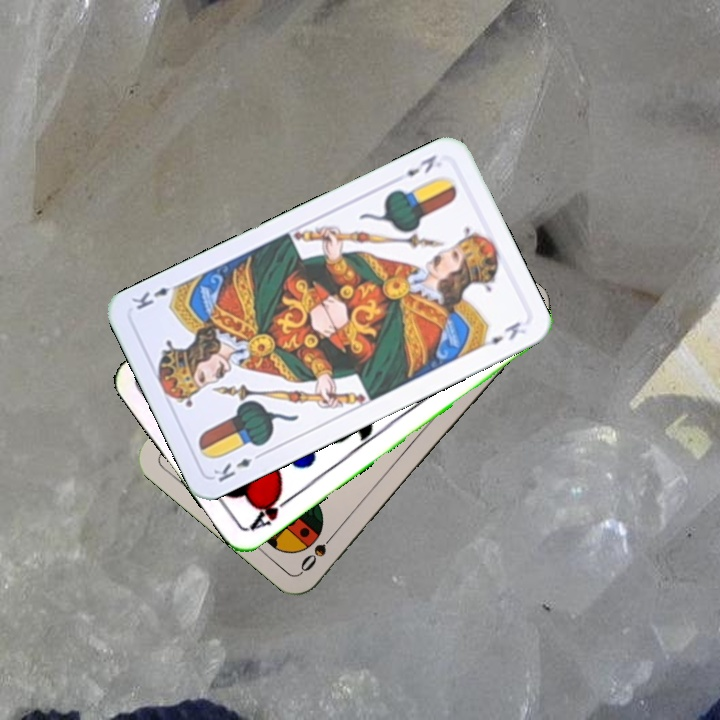EK: (209, 448, 266, 485), (402, 150, 439, 179)
HA: (246, 486, 297, 533)
SO: (296, 526, 341, 575)
